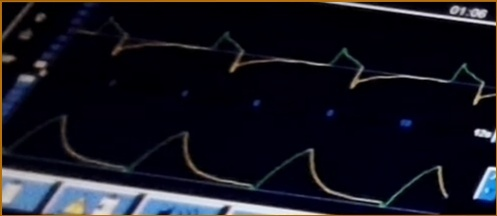Flow: (79, 14, 495, 107)
Leakage Volume: (4, 109, 448, 207)
